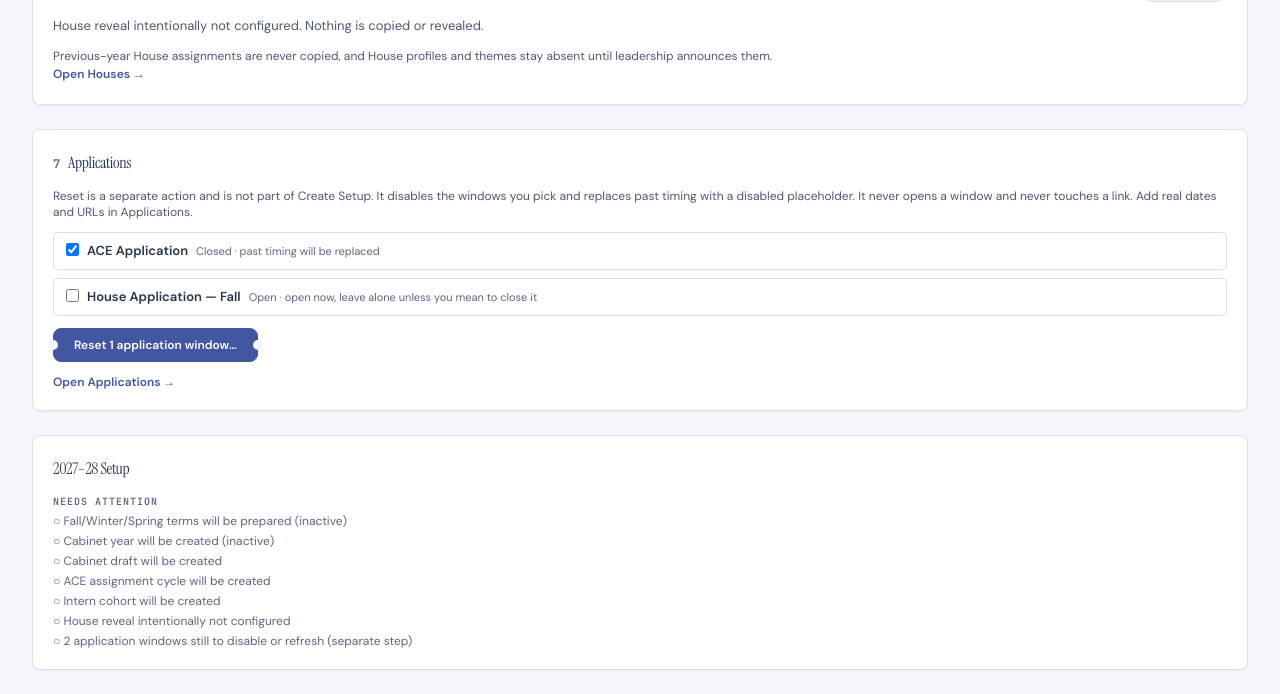
Test: application reset › opens a typed confirmation that lists exactly what will change, and writes nothing yet
(page scrolled)
Click the button "Reset 1 application window…" at point(155, 345), box [53,328,258,362]
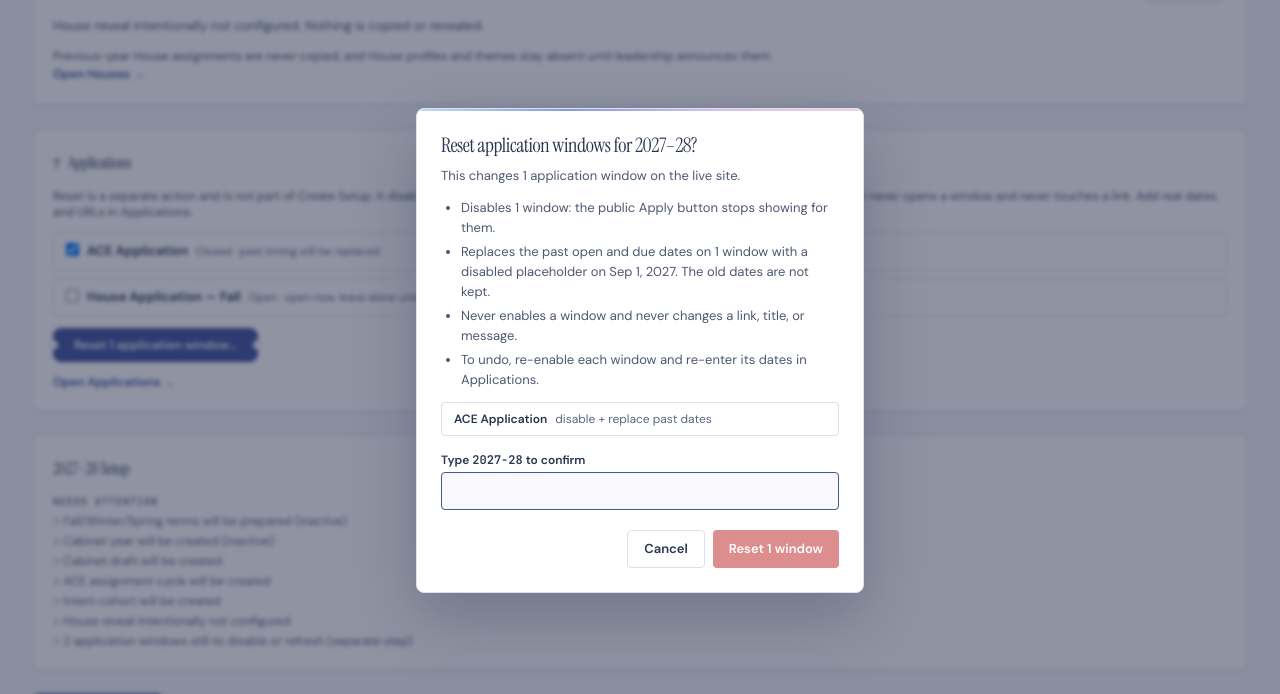
Expected: the heading "Reset application windows for 2027–28?" is shown, [441,132,697,158]
Expected: the list item "Disables 1 window: the public Apply button stops showing" is shown, [461,198,828,236]
Expected: the list item "Replaces the past open and due dates on 1 window with a disabled placeholder on Sep 1, 2027" is shown, [461,242,809,300]
